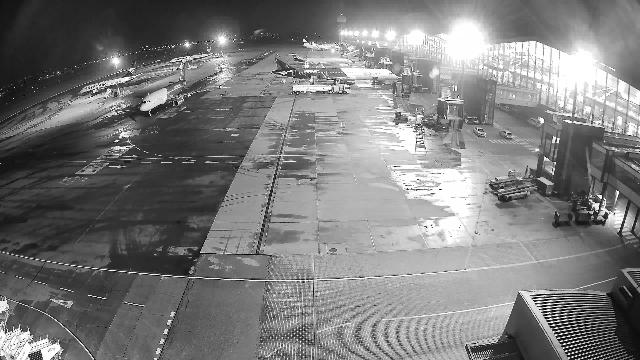Aircraft: (123, 66, 226, 112), (271, 52, 398, 86), (80, 61, 143, 94), (170, 46, 214, 63), (288, 53, 353, 64), (303, 39, 340, 49)
Airport_Tractor: (586, 194, 606, 211), (397, 111, 411, 121), (280, 78, 286, 84)
Baggage_Trolley: (536, 177, 554, 195), (554, 210, 573, 225), (572, 199, 588, 213), (575, 211, 592, 223), (593, 210, 609, 220)
Conveyor_Belt: (494, 176, 537, 201), (489, 169, 529, 190)
Fuel_Tuck: (291, 84, 351, 94)
